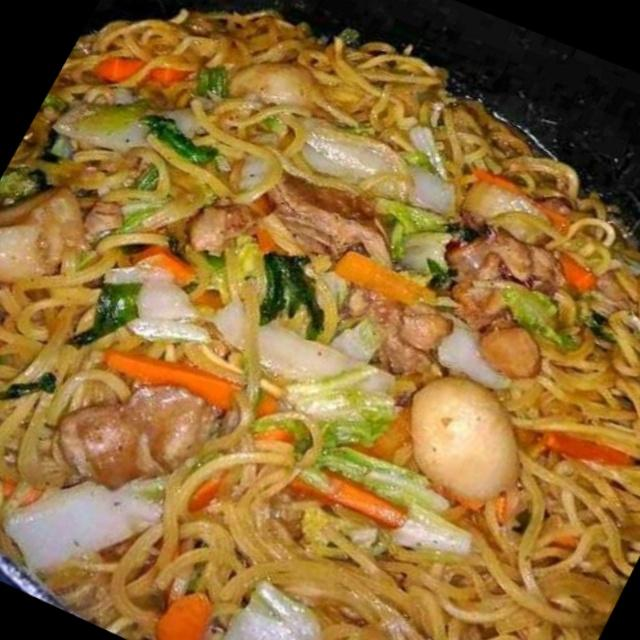pancit bihon: (0, 11, 639, 639)
